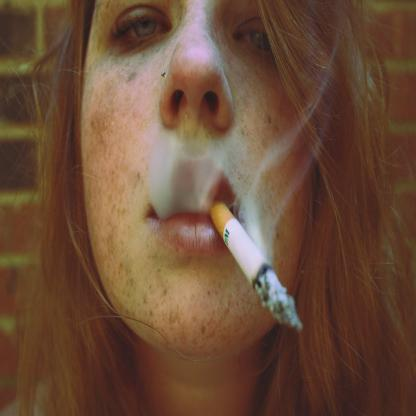smoking: (209, 199, 304, 330)
